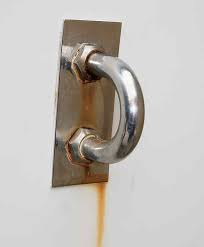rust: (95, 184, 107, 242), (79, 85, 96, 123)
